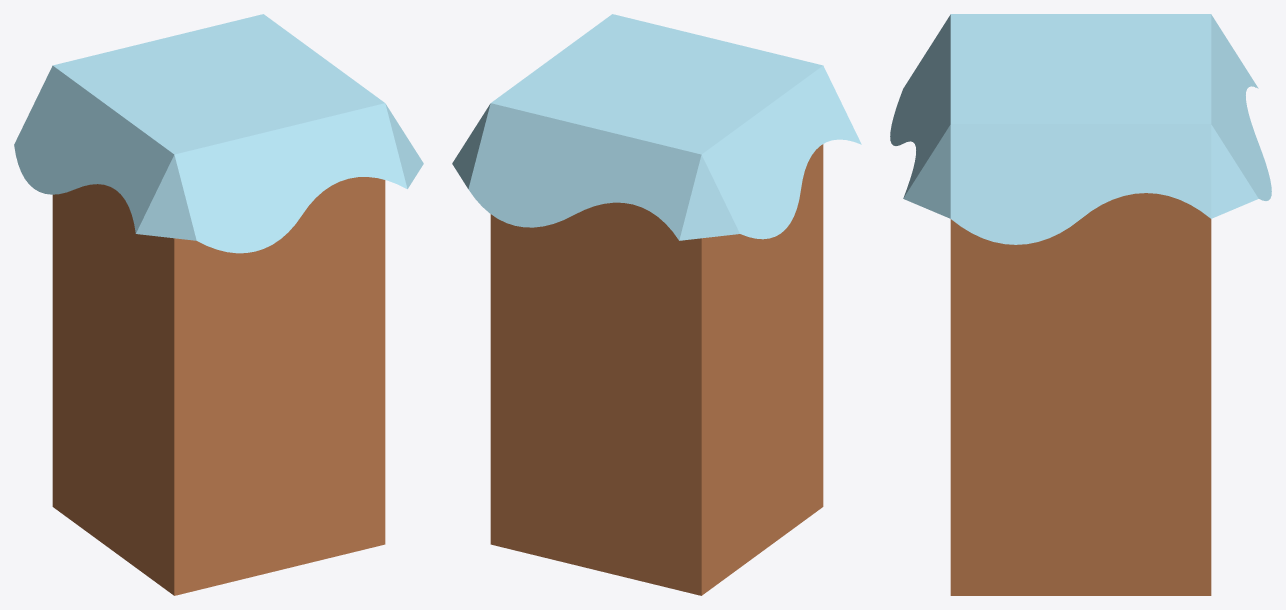
File: blockSnowQuarter.dae
3 views of the same model, side by side, from view 1: azimuth 30°, elevation 25°; view 2: azimuth 150°, elevation 25°; view 3: azimuth 270°, elevation 25° (orthographic). The views are drawn at different scales.
Visible parts, largest first — view 1: blockSnowQuarter; view 2: blockSnowQuarter; view 3: blockSnowQuarter.
Part boxes in pixels (<box>): blockSnowQuarter: <box>14,14,423,595</box>; blockSnowQuarter: <box>452,14,861,595</box>; blockSnowQuarter: <box>890,14,1271,595</box>.
Bounding box in the file's own units: 0.733 × 1 × 0.733.
